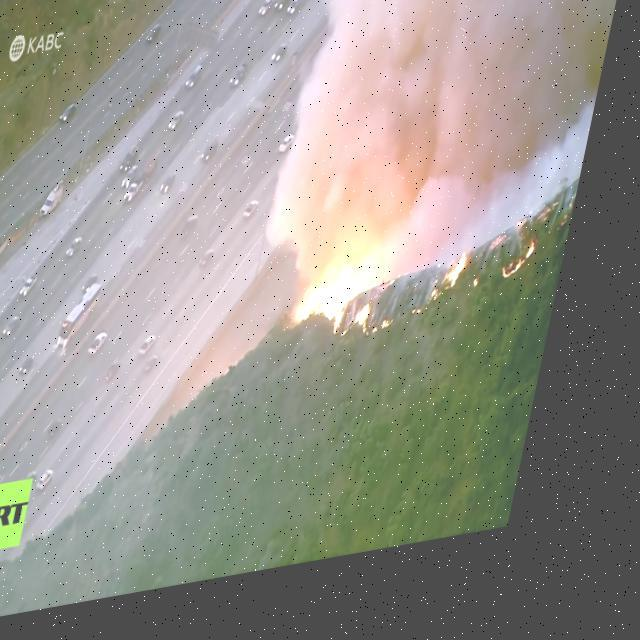Fire: (306, 266, 399, 363), (442, 270, 484, 330), (516, 263, 552, 302)
